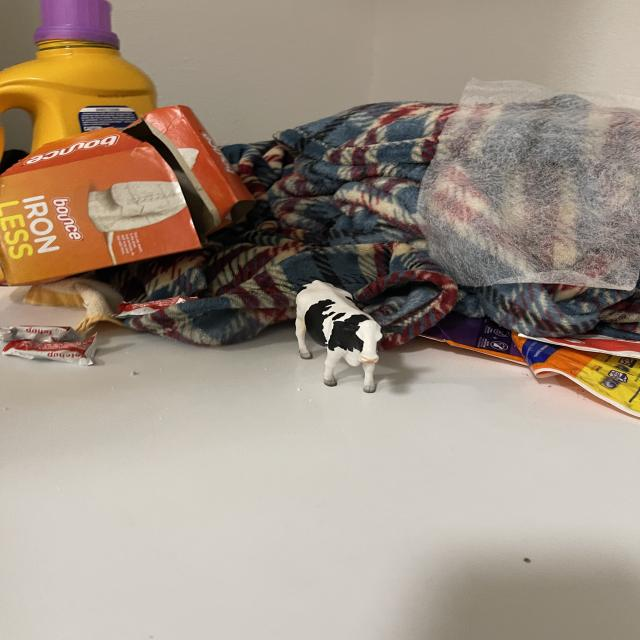cow: (284, 277, 389, 393)
